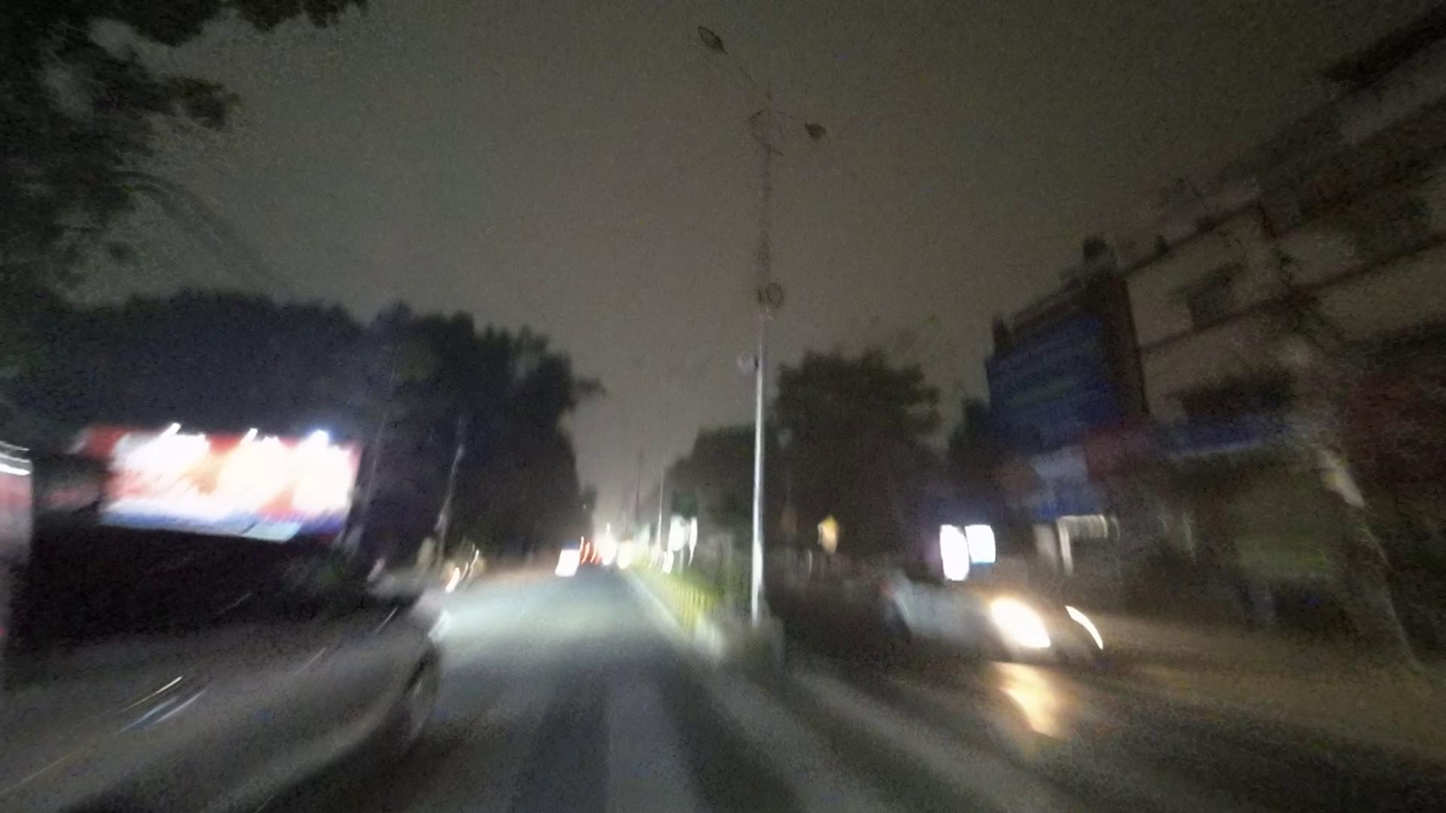streetlight: (698, 23, 759, 97), (779, 104, 833, 149)
